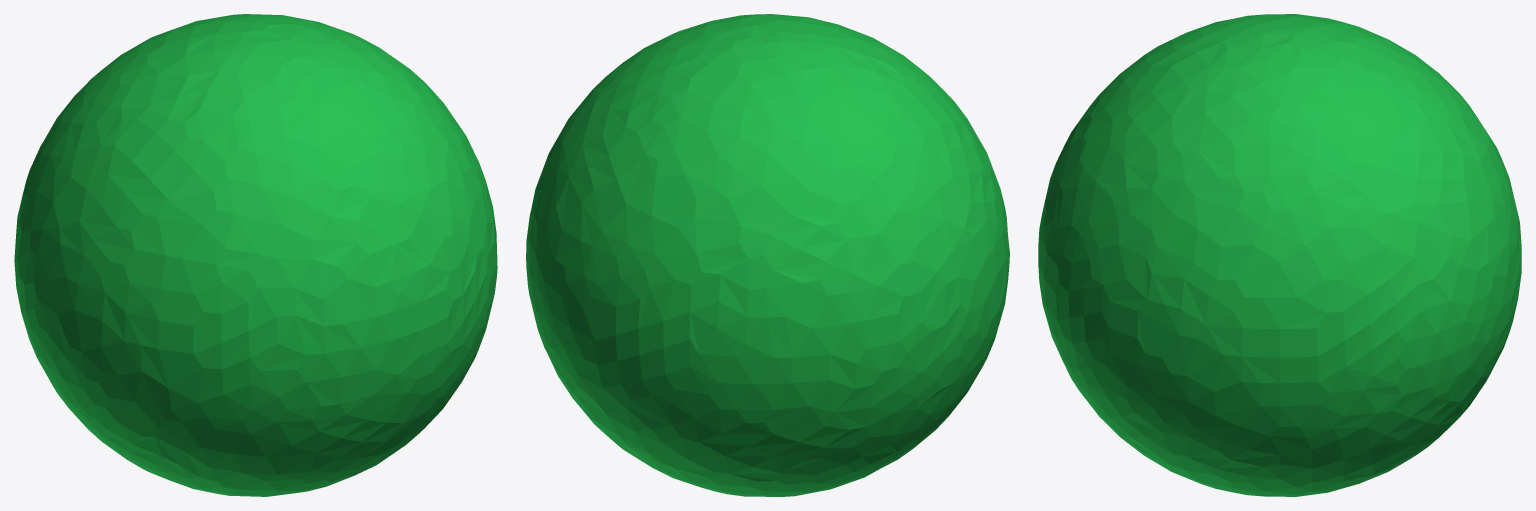
3 views of the same model, side by side, from view 1: azimuth 30°, elevation 25°; view 2: azimuth 150°, elevation 25°; view 3: azimuth 270°, elevation 25° (orthographic).
Bounding box in the file's own units: 0.2 × 0.2 × 0.2.
